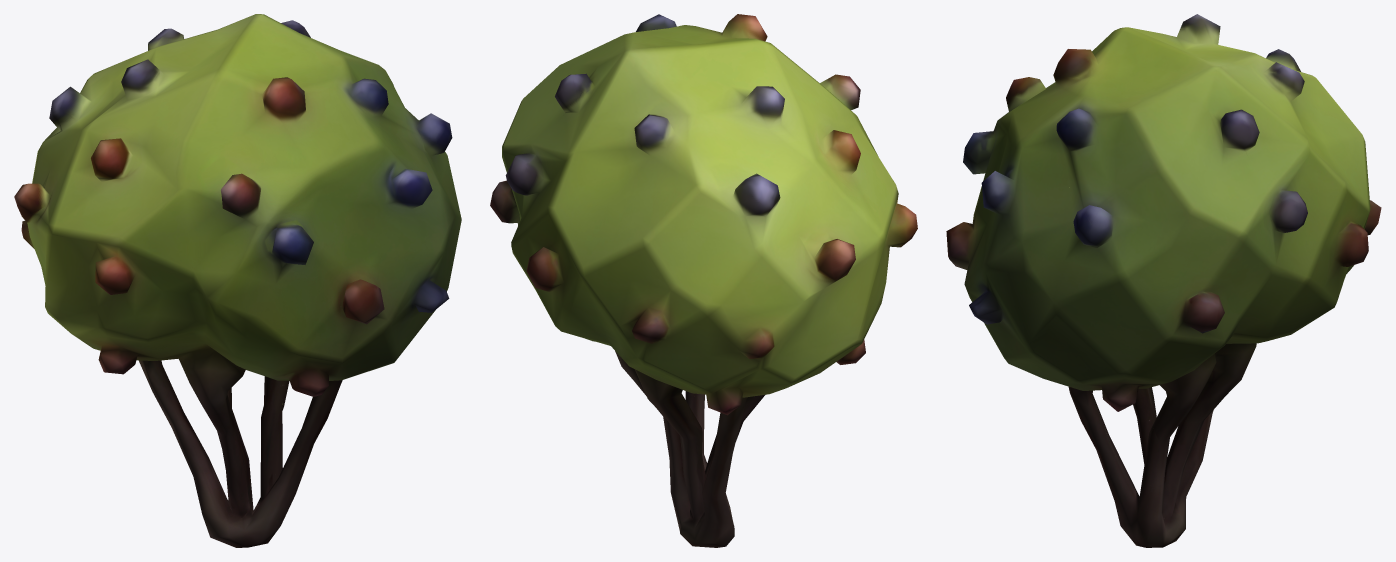
Rendered from BerryFarm.glb.
3 views of the same model, side by side, from view 1: azimuth 30°, elevation 25°; view 2: azimuth 150°, elevation 25°; view 3: azimuth 270°, elevation 25° (orthographic).
Parts seen in each view (by area): view 1: berry_tree; view 2: berry_tree; view 3: berry_tree.
Part boxes in pixels (x1,y1,x2,y2): berry_tree: (14, 14, 461, 547); berry_tree: (490, 14, 917, 547); berry_tree: (946, 14, 1381, 547).
Bounding box in the file's own units: 0.7947 × 1 × 0.7959.
Materials: 1 (1 with a texture image).
